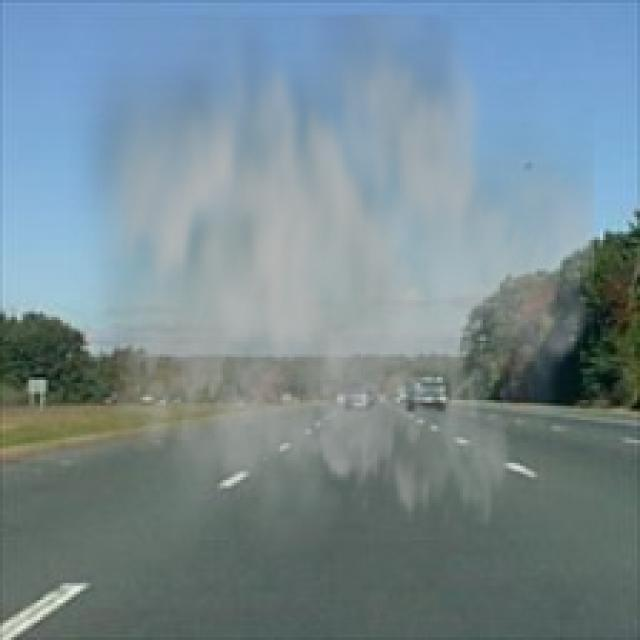Smoke: (68, 14, 594, 580)
